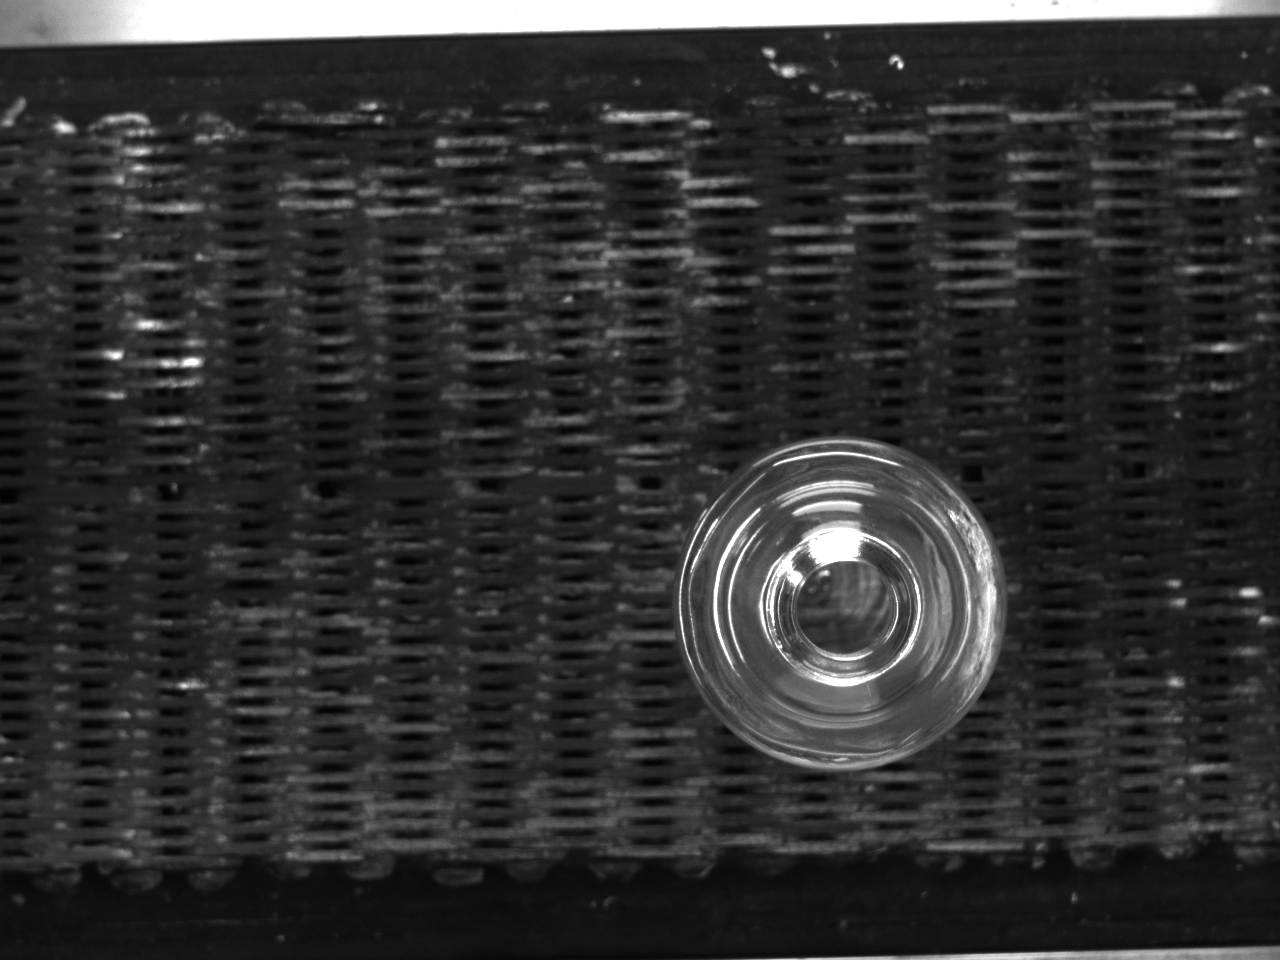bottleneck: (764, 527, 923, 688)
